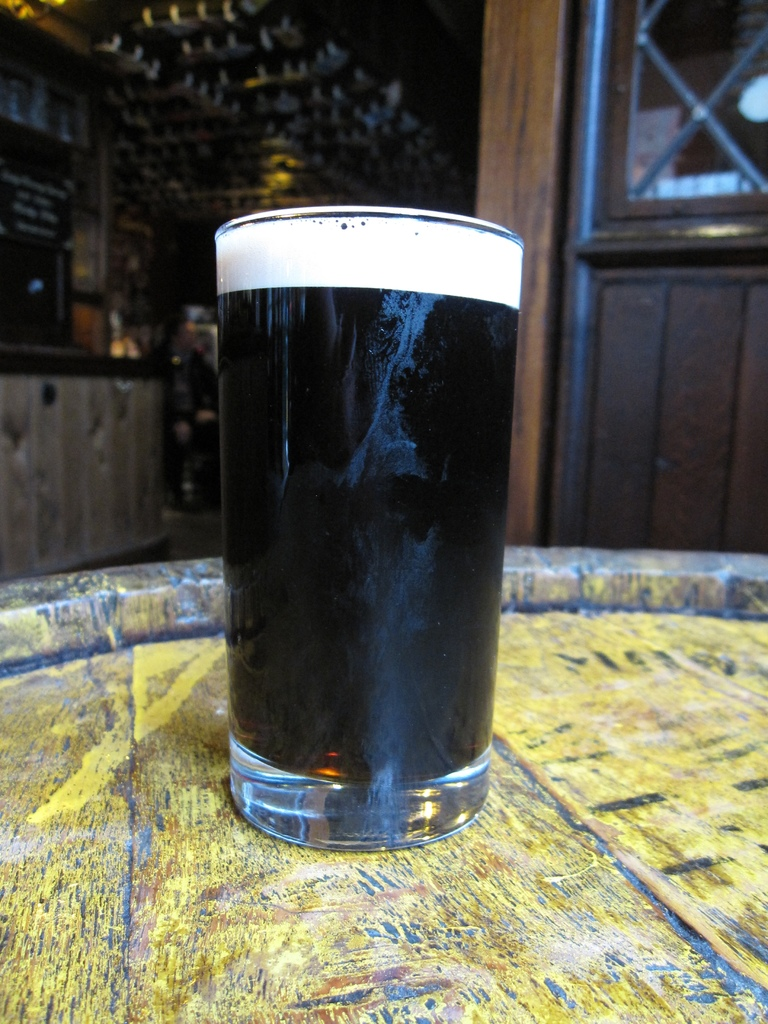Beer: (209, 197, 513, 851)
